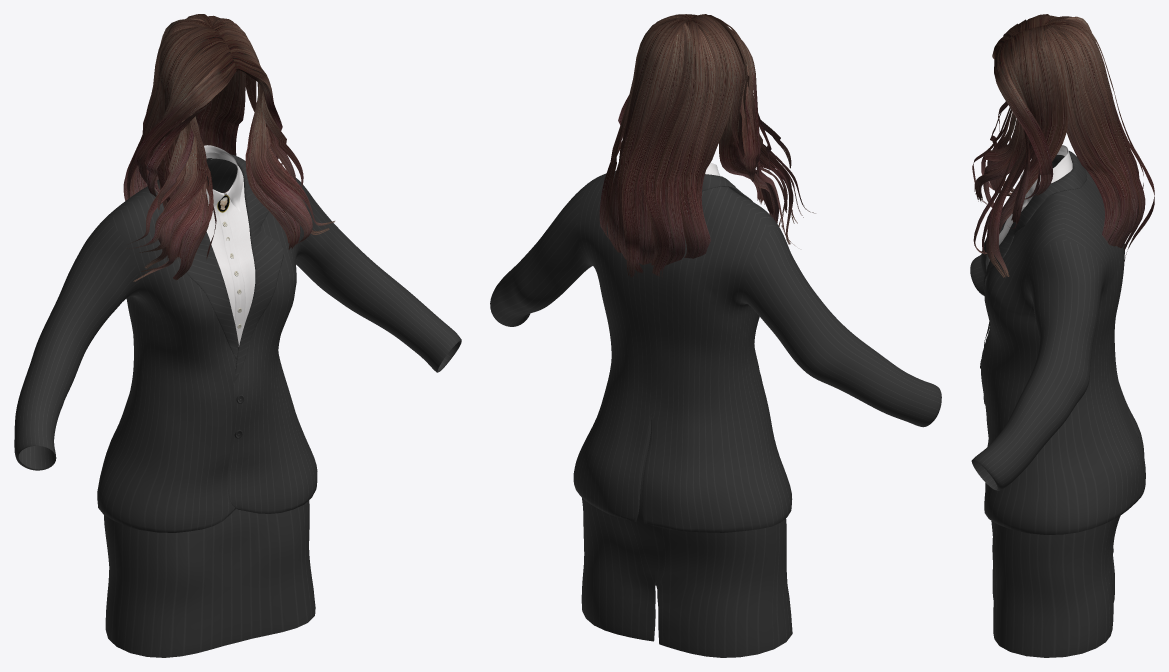
Rendered from asesora-ejecutiva.glb.
The picture shows the model from 3 angles, left to right: view 1: azimuth 30°, elevation 25°; view 2: azimuth 150°, elevation 25°; view 3: azimuth 270°, elevation 25°; orthographic projection. The views are drawn at different scales.
Visible parts, largest first — view 1: ExecutiveSuit, ExecutiveHair; view 2: ExecutiveSuit, ExecutiveHair; view 3: ExecutiveSuit, ExecutiveHair.
Boxes of the visible parts, x1=… form: ExecutiveSuit: x1=14, y1=145, x2=461, y2=657; ExecutiveHair: x1=123, y1=14, x2=334, y2=281; ExecutiveSuit: x1=490, y1=162, x2=941, y2=657; ExecutiveHair: x1=599, y1=14, x2=815, y2=277; ExecutiveSuit: x1=970, y1=145, x2=1145, y2=657; ExecutiveHair: x1=972, y1=14, x2=1154, y2=277.
Bounding box in the file's own units: 0.9192 × 1.19 × 0.3363.
Materials: 2 (2 with a texture image).
